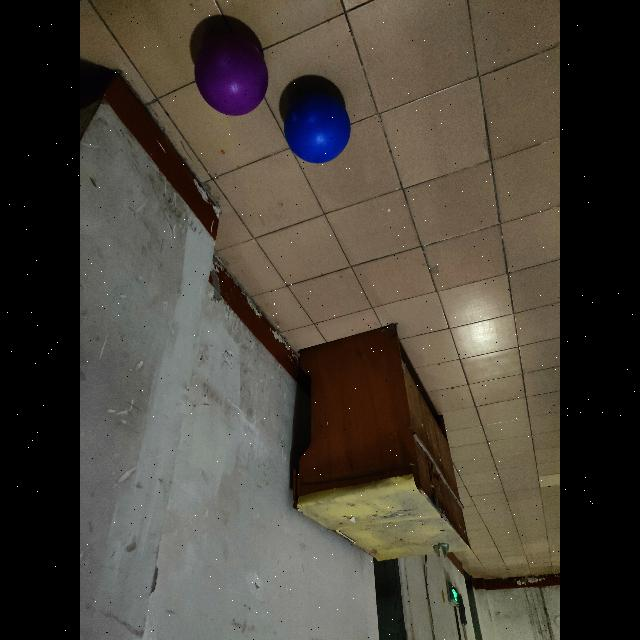B: (281, 88, 351, 166)
P: (192, 30, 268, 116)
